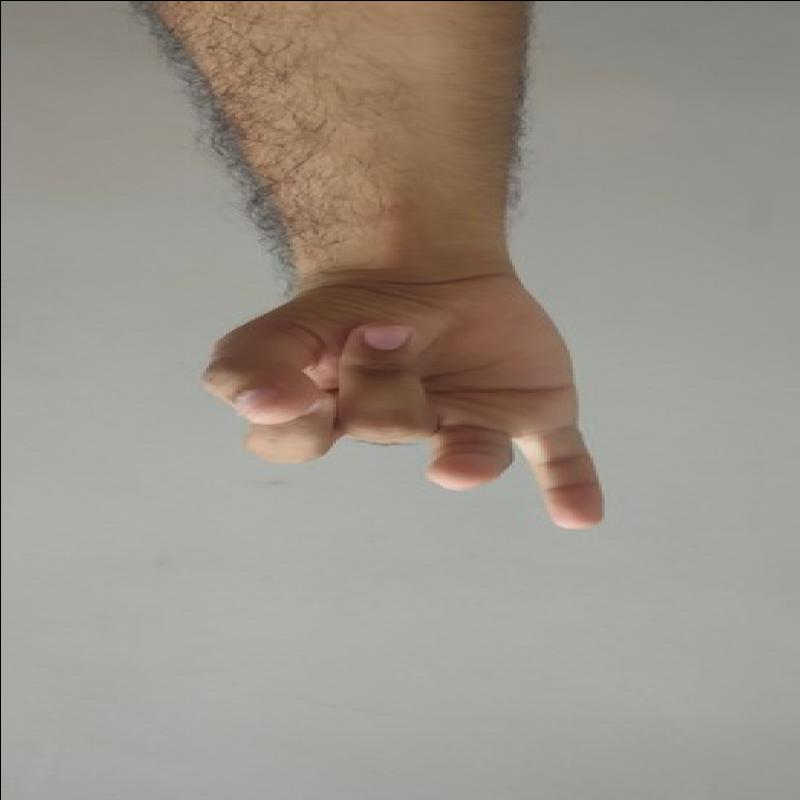Katakam: (201, 263, 614, 542)
